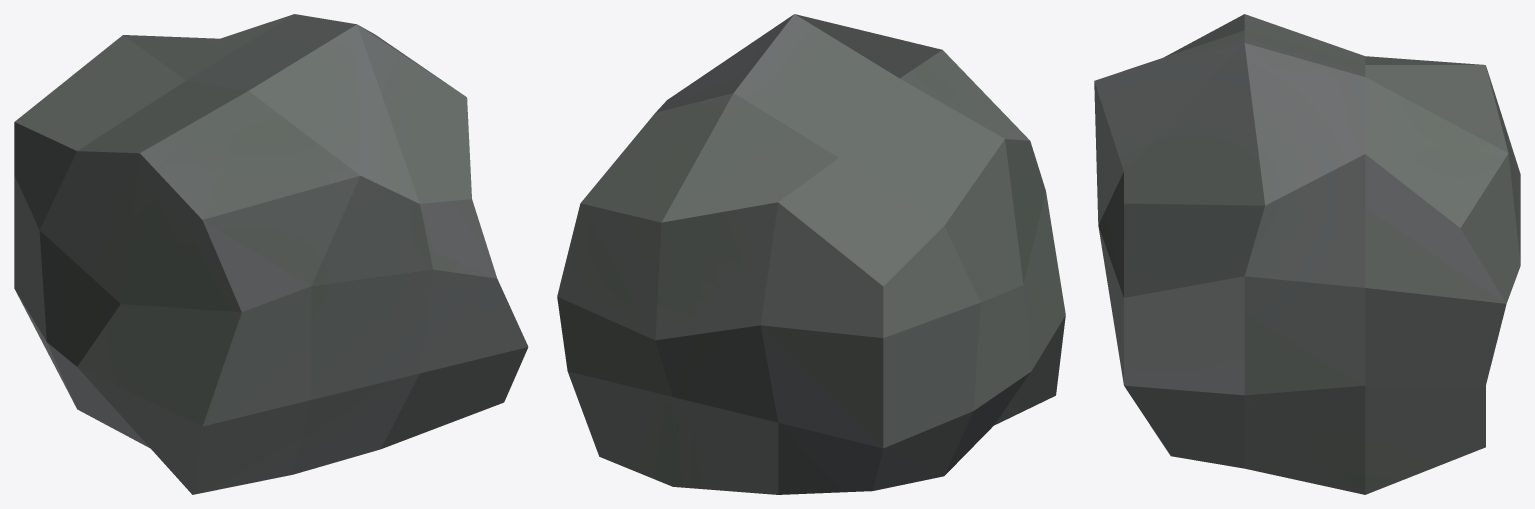
File: SmallStone.fbx
The picture shows the model from 3 angles, left to right: view 1: azimuth 30°, elevation 25°; view 2: azimuth 150°, elevation 25°; view 3: azimuth 270°, elevation 25°; orthographic projection. The views are drawn at different scales.
Visible parts, largest first — view 1: Cube; view 2: Cube; view 3: Cube.
Boxes of the visible parts, bbox=[...] form: Cube: bbox=[14, 14, 528, 494]; Cube: bbox=[557, 14, 1065, 494]; Cube: bbox=[1094, 14, 1520, 494].
Bounding box in the file's own units: 833 × 839 × 809.
